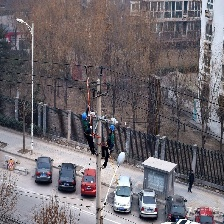helmet: (82, 112, 88, 122), (109, 123, 115, 132)
person: (81, 109, 97, 156), (103, 122, 116, 168)
